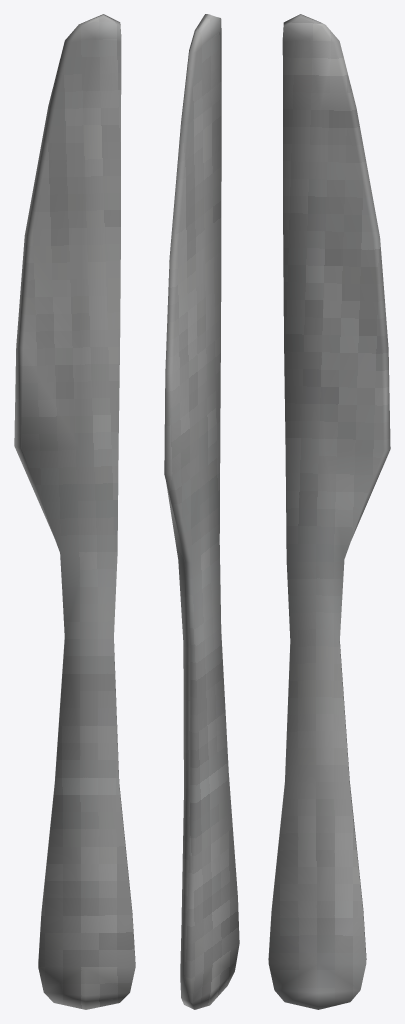
Rendered from knife.obj.
3 views of the same model, side by side, from view 1: azimuth 90°, elevation 25°; view 2: azimuth 150°, elevation 25°; view 3: azimuth 270°, elevation 25° (orthographic).
Visible parts, largest first — view 1: utensils_knife; view 2: utensils_knife; view 3: utensils_knife.
Part boxes in pixels (box(x1,y1,x2,y2)): utensils_knife: box(14, 14, 135, 1009); utensils_knife: box(164, 14, 239, 1009); utensils_knife: box(268, 14, 390, 1009).
Size of the model in its own units: 0.00738 by 0.2887 by 0.0321.
